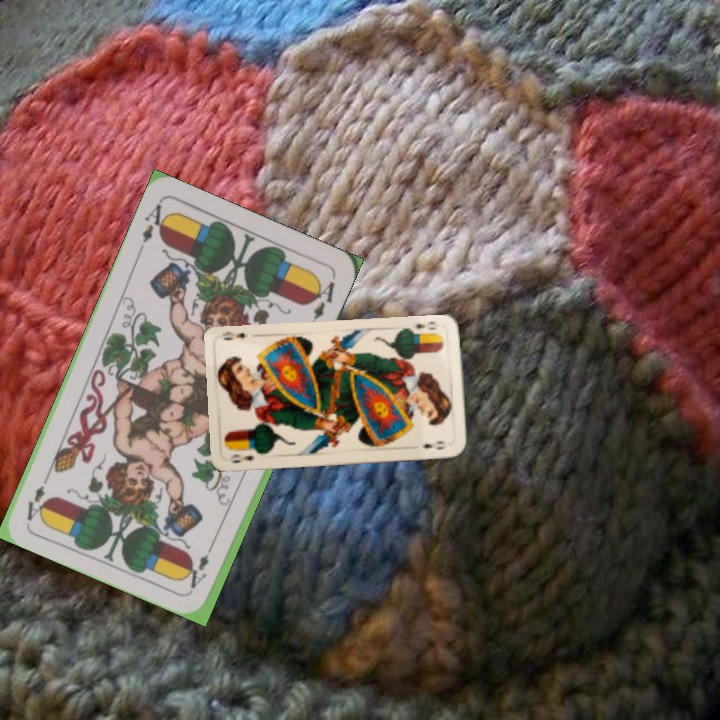EA: (134, 198, 172, 255), (186, 537, 217, 591)
EO: (224, 450, 256, 465), (410, 317, 439, 332)
